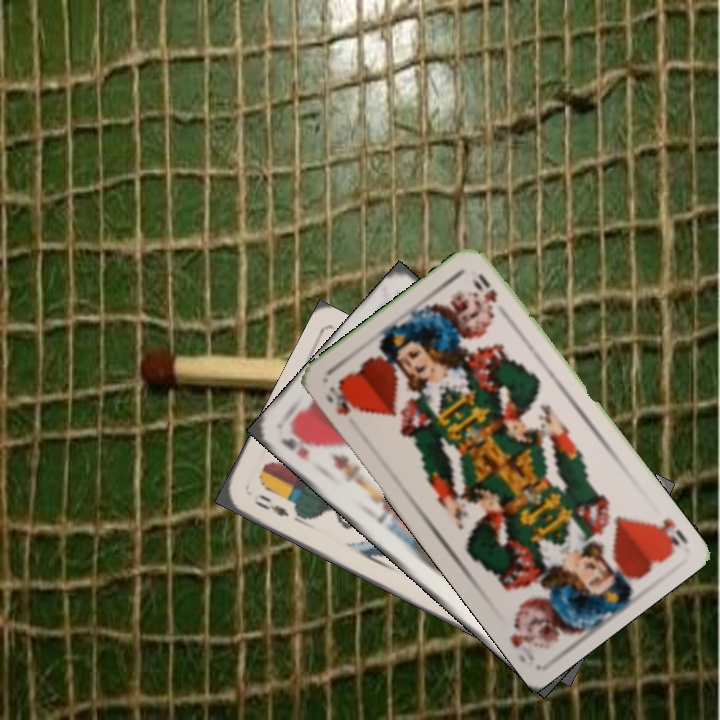EO: (250, 490, 292, 520)
HK: (276, 434, 314, 464)
HO: (645, 514, 690, 555), (321, 377, 360, 418)
